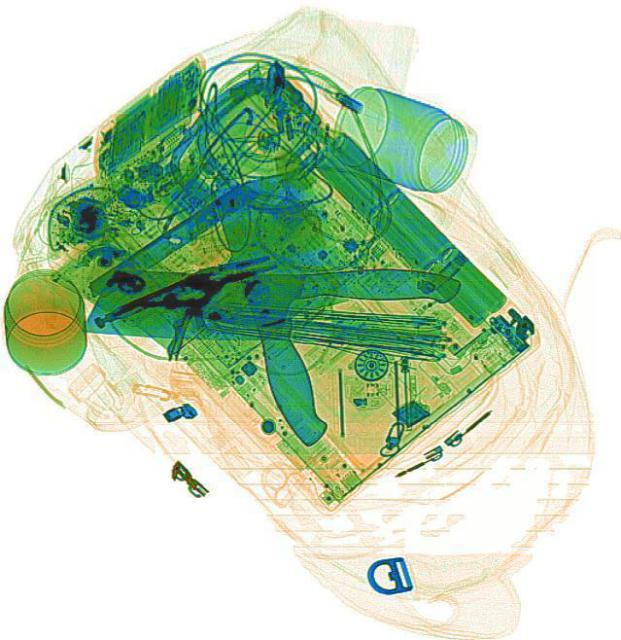Knife: (211, 162, 382, 450), (83, 257, 458, 347)
